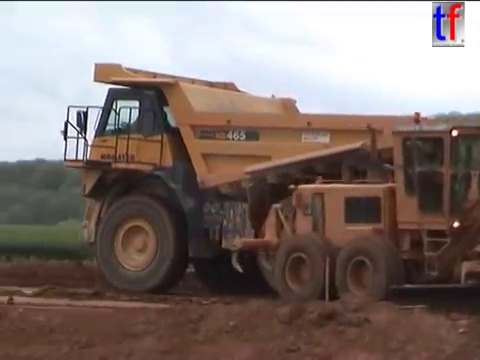excavator: (231, 109, 480, 307)
truck: (59, 60, 480, 306)
